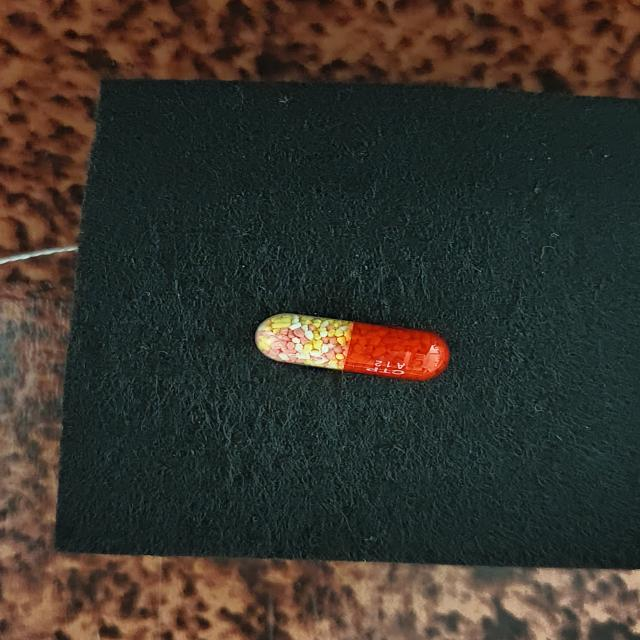Intact Capsule: (255, 313, 450, 381)
